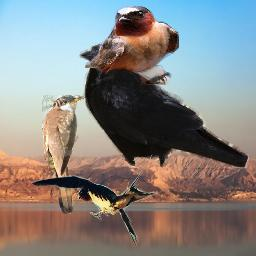Crow: (78, 43, 249, 168)
Cuckoo: (42, 95, 85, 214)
Swallow: (29, 169, 178, 247), (85, 6, 179, 85)
